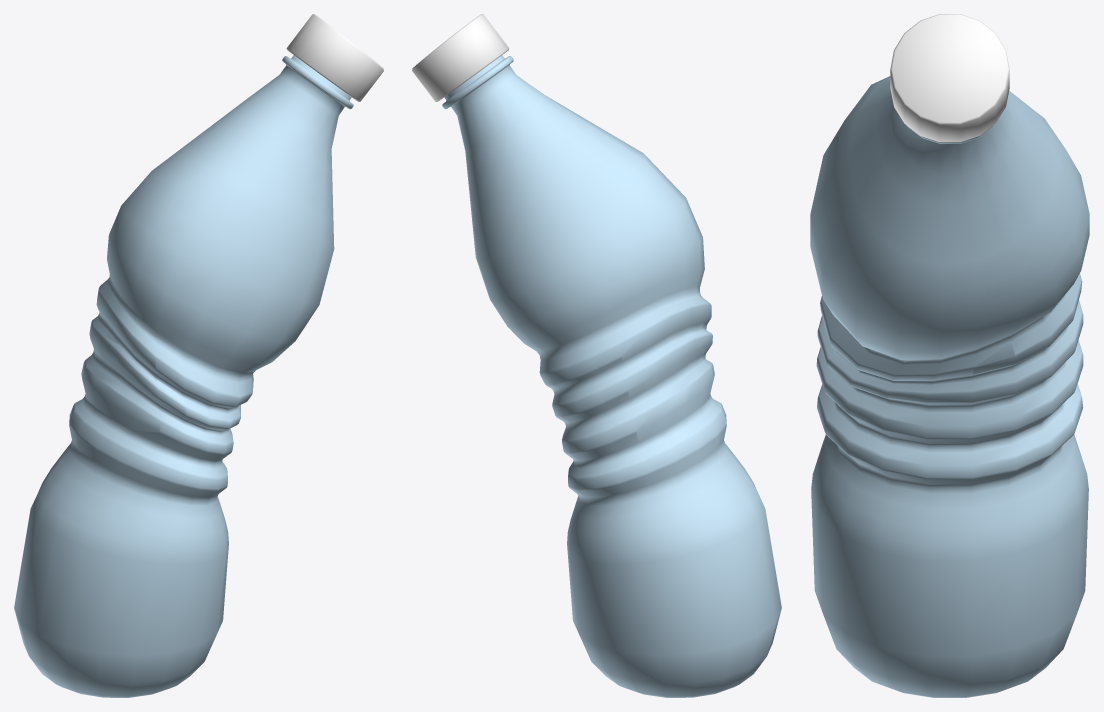
File: bootle2.fbx
3 renders of one model, left to right at view 1: azimuth 30°, elevation 25°; view 2: azimuth 150°, elevation 25°; view 3: azimuth 270°, elevation 25°, orthographic. The views are drawn at different scales.
Parts seen in each view (by area): view 1: Circle.001; view 2: Circle.001; view 3: Circle.001.
Part boxes in pixels (x1=…): Circle.001: x1=14, y1=14, x2=383, y2=697; Circle.001: x1=412, y1=14, x2=781, y2=697; Circle.001: x1=810, y1=14, x2=1089, y2=697.
Size of the model in its own units: 1.02 by 1.68 by 0.5495.
